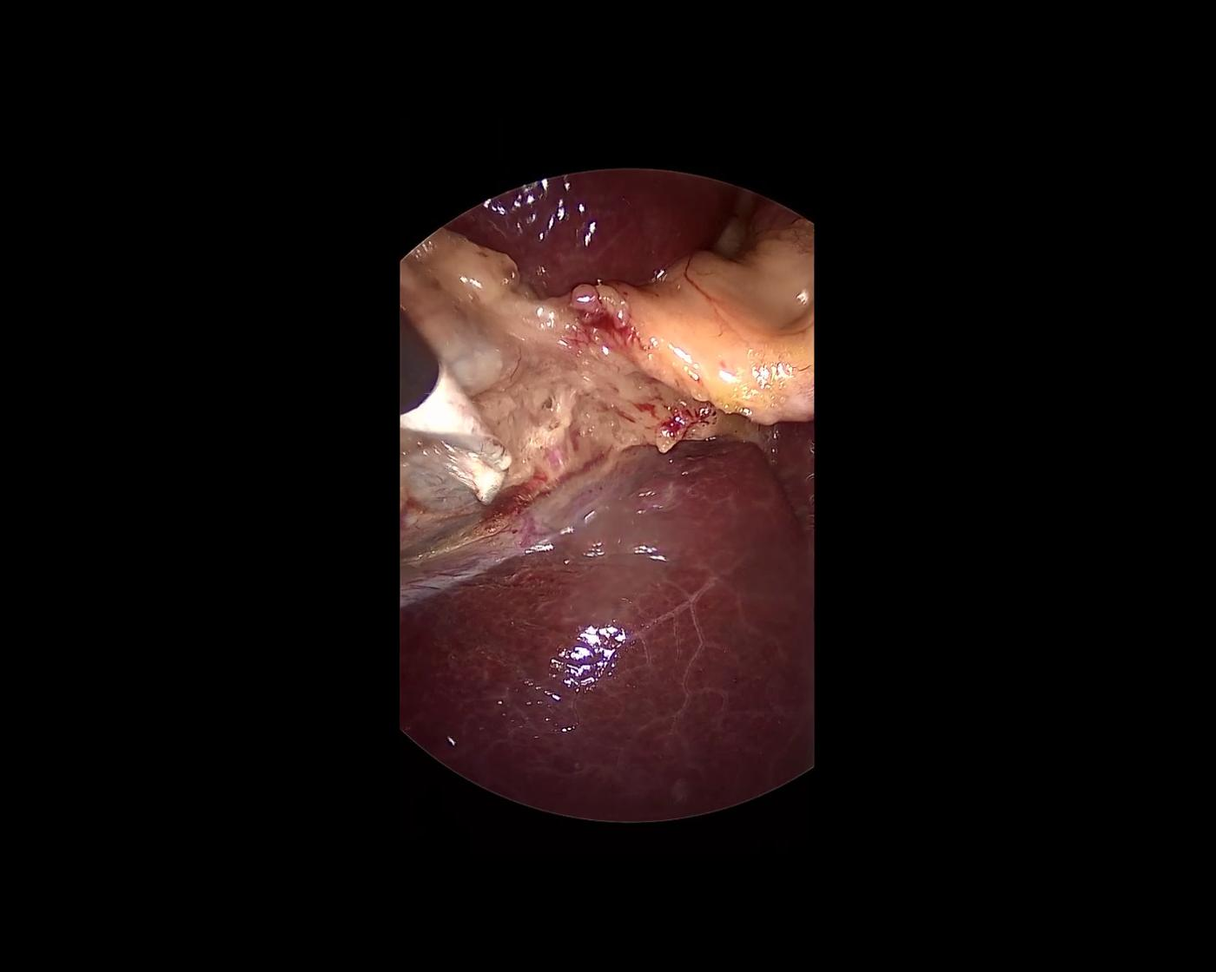Cautery: (344, 307, 527, 518)
Gallbladder: (400, 227, 608, 557)
Liver: (400, 419, 815, 824), (440, 147, 751, 316)
